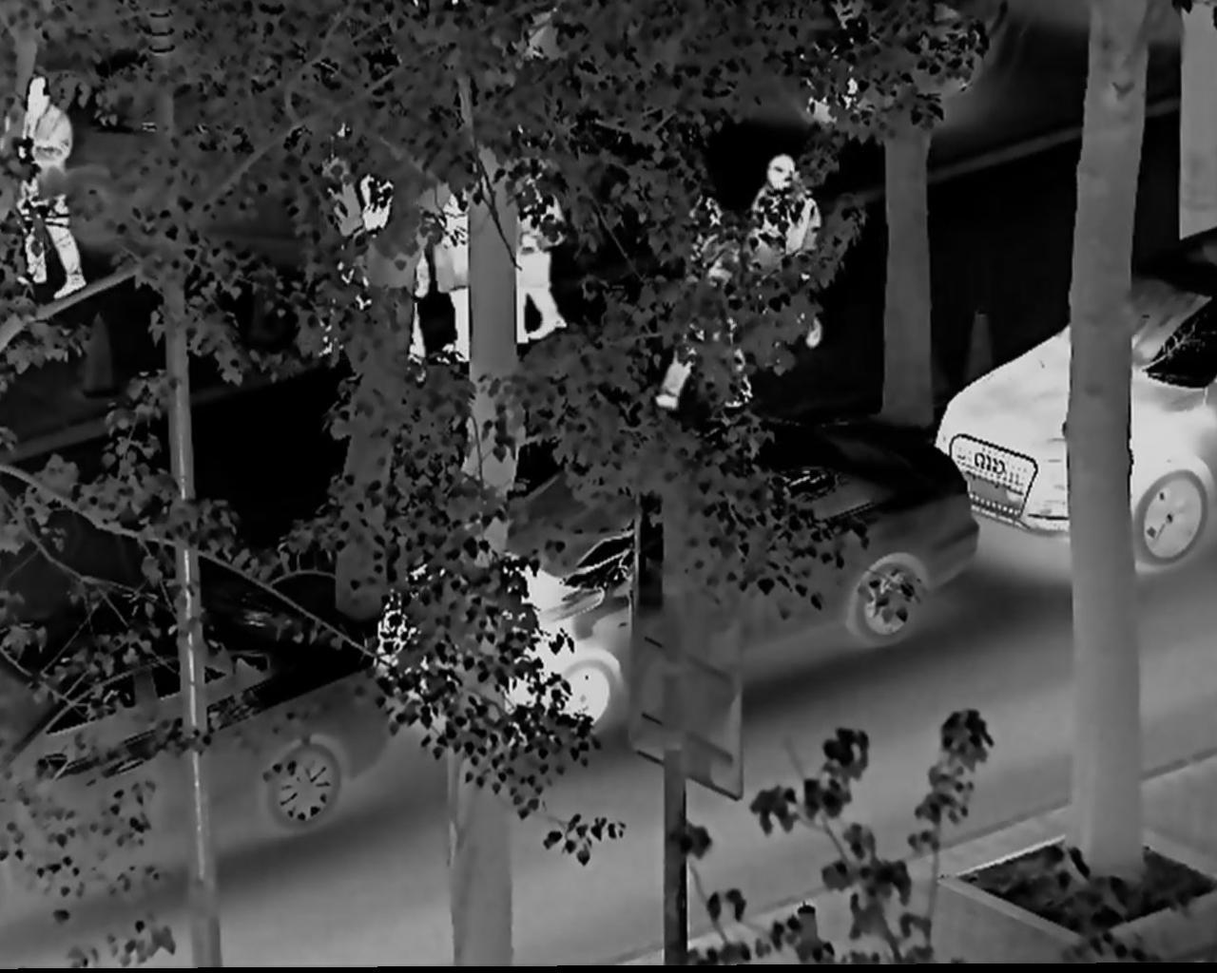person: (654, 196, 757, 411), (736, 149, 830, 363), (11, 68, 92, 306)
